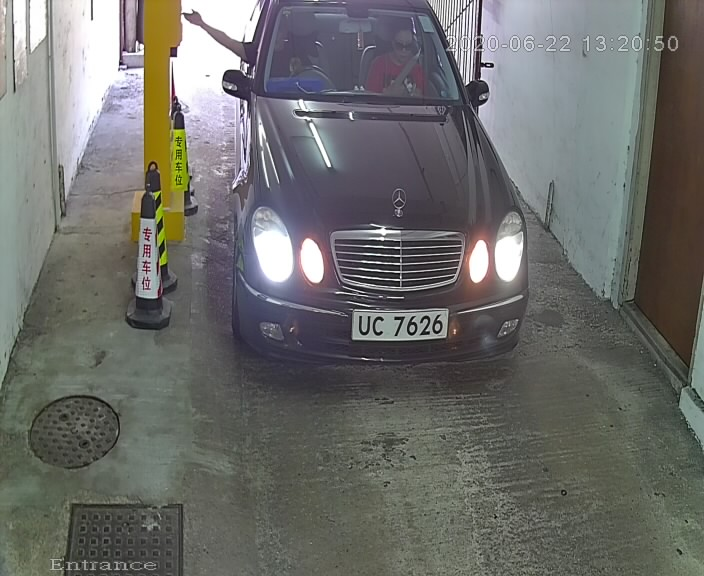privatecar: (203, 2, 551, 374)
